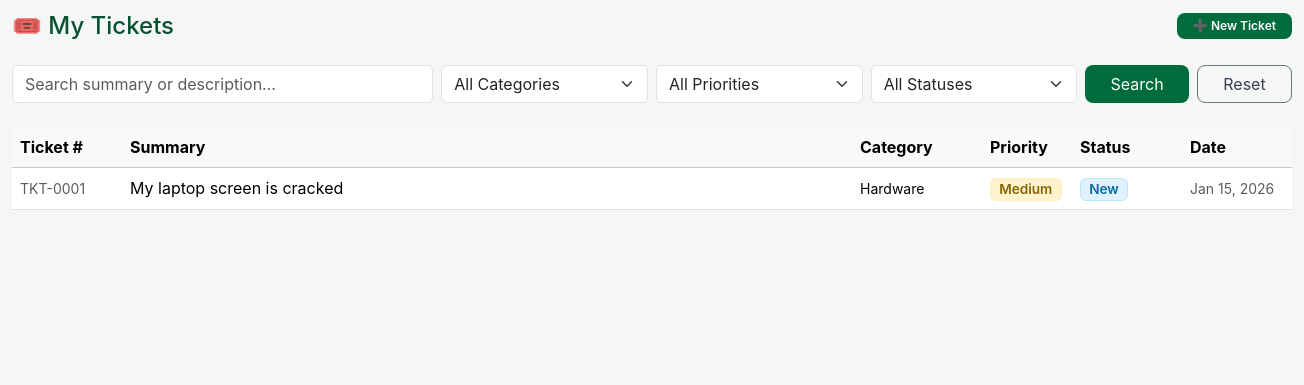
Test: Empty state — no tickets found › shows a 'Clear Filters' button in empty state when filters are active
The image size is (1304, 385).
Apply a filter that yields no results
Select "Closed" in the dropdown named "filter by status" at (974, 84), box [871,65,1077,103]
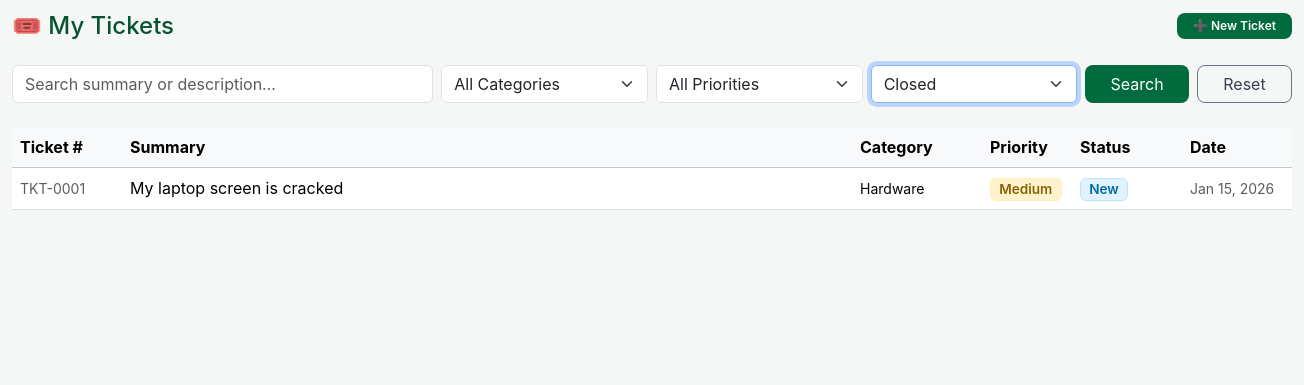
Click the button with aria-label "apply filters" at (1137, 84), box [1085,65,1189,103]
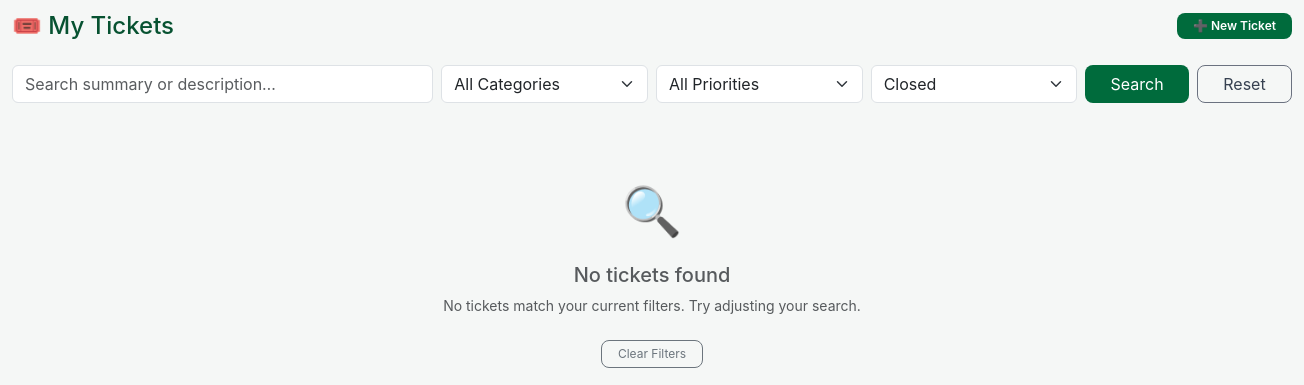
Check: the element with test id "empty-state" is shown, box [443,181,861,368]
Check: the button "Clear Filters" is shown, box [601,340,703,368]
